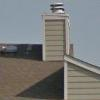Chimney: (37, 2, 79, 65)
